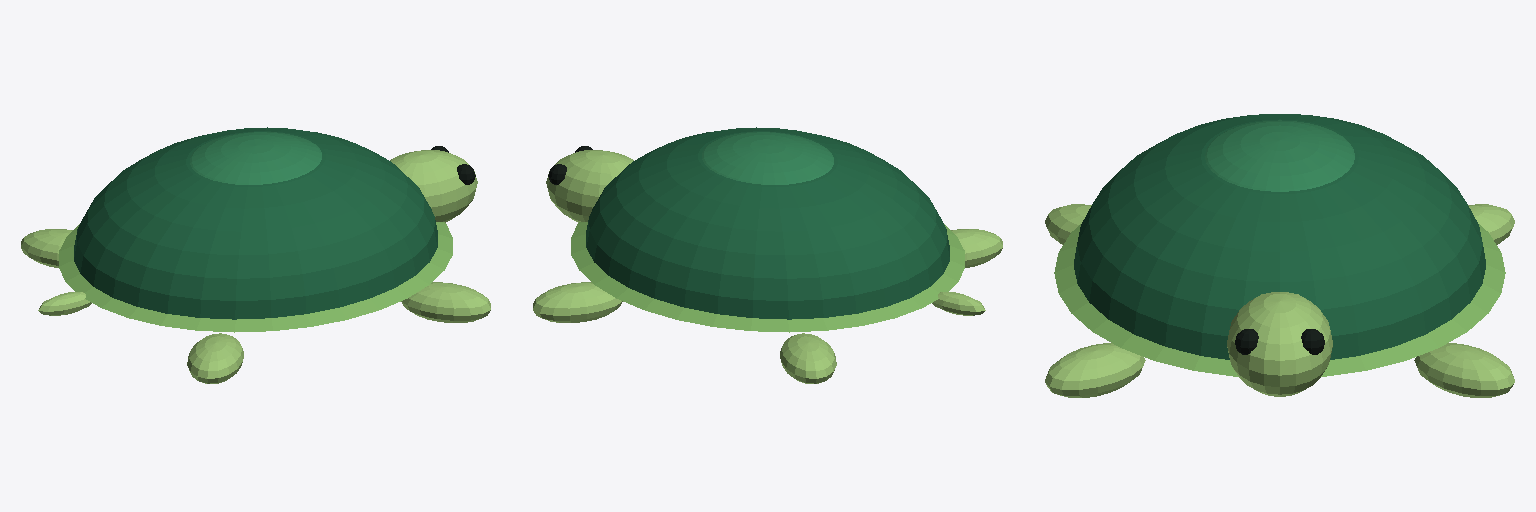
robot.urdf — turtle:
<?xml version="1.0"?>
<!-- SPDX-License-Identifier: Apache-2.0 -->
<!--
  The turtle, at real size: a shell, a head that turns and four legs that
  swing. Plain URDF, no xacro: what stands here is what a loader reads.

  Metres and radians. `base_link` lies on the floor under the turtle's
  centre, x ahead, y to the left, z up. Nothing reaches past the simulator's
  footprint, a circle of 0.1 m radius around it.

  The meshes are made by tools/make_meshes.py and coloured here; none has a
  texture. The simulator publishes the five joints on /joint_states, and
  robot_state_publisher turns them into transforms.
-->
<robot name="turtle">

  <material name="shell"><color rgba="0.184 0.435 0.310 1"/></material>
  <material name="shell_top"><color rgba="0.247 0.541 0.380 1"/></material>
  <material name="rim"><color rgba="0.525 0.722 0.420 1"/></material>
  <material name="skin"><color rgba="0.639 0.788 0.490 1"/></material>
  <material name="eye"><color rgba="0.110 0.141 0.125 1"/></material>

  <!-- The shell, with its rim and the tail: everything that does not move. -->
  <link name="base_link">
    <visual>
      <origin xyz="0 0 0.018"/>
      <geometry><mesh filename="package://fleetless_turtle_description/meshes/rim.stl"/></geometry>
      <material name="rim"/>
    </visual>
    <visual>
      <origin xyz="0 0 0.020"/>
      <geometry><mesh filename="package://fleetless_turtle_description/meshes/shell.stl"/></geometry>
      <material name="shell"/>
    </visual>
    <!-- The same dome again, small, where the shell is highest: a lighter crown. -->
    <visual>
      <origin xyz="0 0 0.047"/>
      <geometry><mesh filename="package://fleetless_turtle_description/meshes/shell.stl" scale="0.5 0.5 0.42"/></geometry>
      <material name="shell_top"/>
    </visual>
    <visual>
      <origin xyz="-0.086 0 0.016"/>
      <geometry><mesh filename="package://fleetless_turtle_description/meshes/tail.stl"/></geometry>
      <material name="skin"/>
    </visual>
    <!-- What the simulator collides with: the footprint, and no mesh. -->
    <collision>
      <origin xyz="0 0 0.032"/>
      <geometry><cylinder radius="0.1" length="0.064"/></geometry>
    </collision>
  </link>

  <!-- The head. It turns into a curve, by 30 degrees at most. -->
  <link name="head">
    <visual>
      <geometry><mesh filename="package://fleetless_turtle_description/meshes/head.stl"/></geometry>
      <material name="skin"/>
    </visual>
    <visual>
      <origin xyz="0.030 0.010 0.009"/>
      <geometry><mesh filename="package://fleetless_turtle_description/meshes/eye.stl"/></geometry>
      <material name="eye"/>
    </visual>
    <visual>
      <origin xyz="0.030 -0.010 0.009"/>
      <geometry><mesh filename="package://fleetless_turtle_description/meshes/eye.stl"/></geometry>
      <material name="eye"/>
    </visual>
  </link>
  <!-- Nothing drives these joints: effort and velocity are here because a
       revolute joint must name them. -->
  <joint name="head_joint" type="revolute">
    <parent link="base_link"/>
    <child link="head"/>
    <origin xyz="0.059 0 0.026"/>
    <axis xyz="0 0 1"/>
    <limit lower="-0.5236" upper="0.5236" effort="1" velocity="10"/>
  </joint>

  <!--
    Four legs, one mesh. A leg lies along its own x, from the hip outwards,
    and swings about the vertical. Each hip's axis is chosen so that a
    positive angle swings its leg forwards, on the left side as on the right.
  -->
  <link name="leg_front_left">
    <visual>
      <geometry><mesh filename="package://fleetless_turtle_description/meshes/leg.stl"/></geometry>
      <material name="skin"/>
    </visual>
  </link>
  <joint name="leg_front_left_joint" type="revolute">
    <parent link="base_link"/>
    <child link="leg_front_left"/>
    <origin xyz="0.044 0.049 0.008" rpy="0 0 0.8727"/>
    <axis xyz="0 0 -1"/>
    <limit lower="-0.5" upper="0.5" effort="1" velocity="10"/>
  </joint>

  <link name="leg_front_right">
    <visual>
      <geometry><mesh filename="package://fleetless_turtle_description/meshes/leg.stl"/></geometry>
      <material name="skin"/>
    </visual>
  </link>
  <joint name="leg_front_right_joint" type="revolute">
    <parent link="base_link"/>
    <child link="leg_front_right"/>
    <origin xyz="0.044 -0.049 0.008" rpy="0 0 -0.8727"/>
    <axis xyz="0 0 1"/>
    <limit lower="-0.5" upper="0.5" effort="1" velocity="10"/>
  </joint>

  <link name="leg_hind_left">
    <visual>
      <geometry><mesh filename="package://fleetless_turtle_description/meshes/leg.stl"/></geometry>
      <material name="skin"/>
    </visual>
  </link>
  <joint name="leg_hind_left_joint" type="revolute">
    <parent link="base_link"/>
    <child link="leg_hind_left"/>
    <origin xyz="-0.044 0.049 0.008" rpy="0 0 2.2689"/>
    <axis xyz="0 0 -1"/>
    <limit lower="-0.5" upper="0.5" effort="1" velocity="10"/>
  </joint>

  <link name="leg_hind_right">
    <visual>
      <geometry><mesh filename="package://fleetless_turtle_description/meshes/leg.stl"/></geometry>
      <material name="skin"/>
    </visual>
  </link>
  <joint name="leg_hind_right_joint" type="revolute">
    <parent link="base_link"/>
    <child link="leg_hind_right"/>
    <origin xyz="-0.044 -0.049 0.008" rpy="0 0 -2.2689"/>
    <axis xyz="0 0 1"/>
    <limit lower="-0.5" upper="0.5" effort="1" velocity="10"/>
  </joint>

</robot>

--- Facts derived from the render (not from the file) ---
3 views of the same robot in one strip: view 1: azimuth 30°, elevation 25°; view 2: azimuth 150°, elevation 25°; view 3: azimuth 270°, elevation 25° (orthographic).
Model turtle with 6 links and 5 joints (5 revolute), rooted at base_link, posed all joints at 0.
Visible links, largest first — view 1: base_link, head, leg_front_right, leg_hind_right, leg_hind_left; view 2: base_link, head, leg_front_left, leg_hind_left, leg_hind_right; view 3: base_link, head, leg_front_left, leg_front_right, leg_hind_left, leg_hind_right.
Boxes of the visible links, x1,y1,x2,y2 form: base_link: [38, 127, 452, 332]; head: [390, 146, 477, 222]; leg_front_right: [401, 282, 490, 322]; leg_hind_right: [187, 333, 243, 383]; leg_hind_left: [21, 229, 72, 267]; base_link: [571, 127, 985, 332]; head: [546, 146, 633, 222]; leg_front_left: [533, 282, 622, 322]; leg_hind_left: [780, 333, 836, 383]; leg_hind_right: [951, 229, 1002, 267]; base_link: [1054, 114, 1505, 376]; head: [1227, 292, 1332, 396]; leg_front_left: [1414, 343, 1514, 397]; leg_front_right: [1045, 343, 1145, 397]; leg_hind_left: [1468, 204, 1514, 244]; leg_hind_right: [1045, 204, 1091, 244].
Size in the robot's own frame: 0.198 by 0.1502 by 0.0636 metres.
11 mesh visuals loaded from 6 distinct referenced files (6 binary STL).
